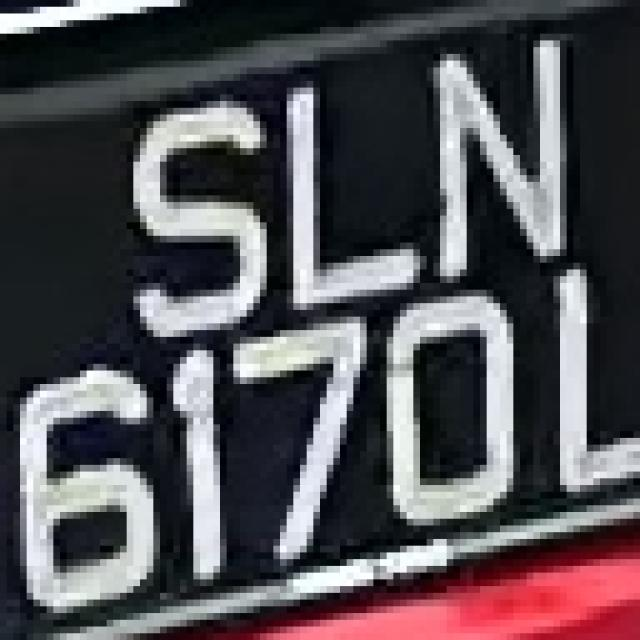0: (373, 276, 520, 532)
1: (174, 310, 254, 593)
6: (13, 337, 167, 633)
7: (227, 296, 400, 572)
L: (246, 54, 426, 290), (549, 266, 640, 500), (5, 2, 7, 6)
N: (400, 14, 567, 303)
S: (107, 81, 273, 337)
